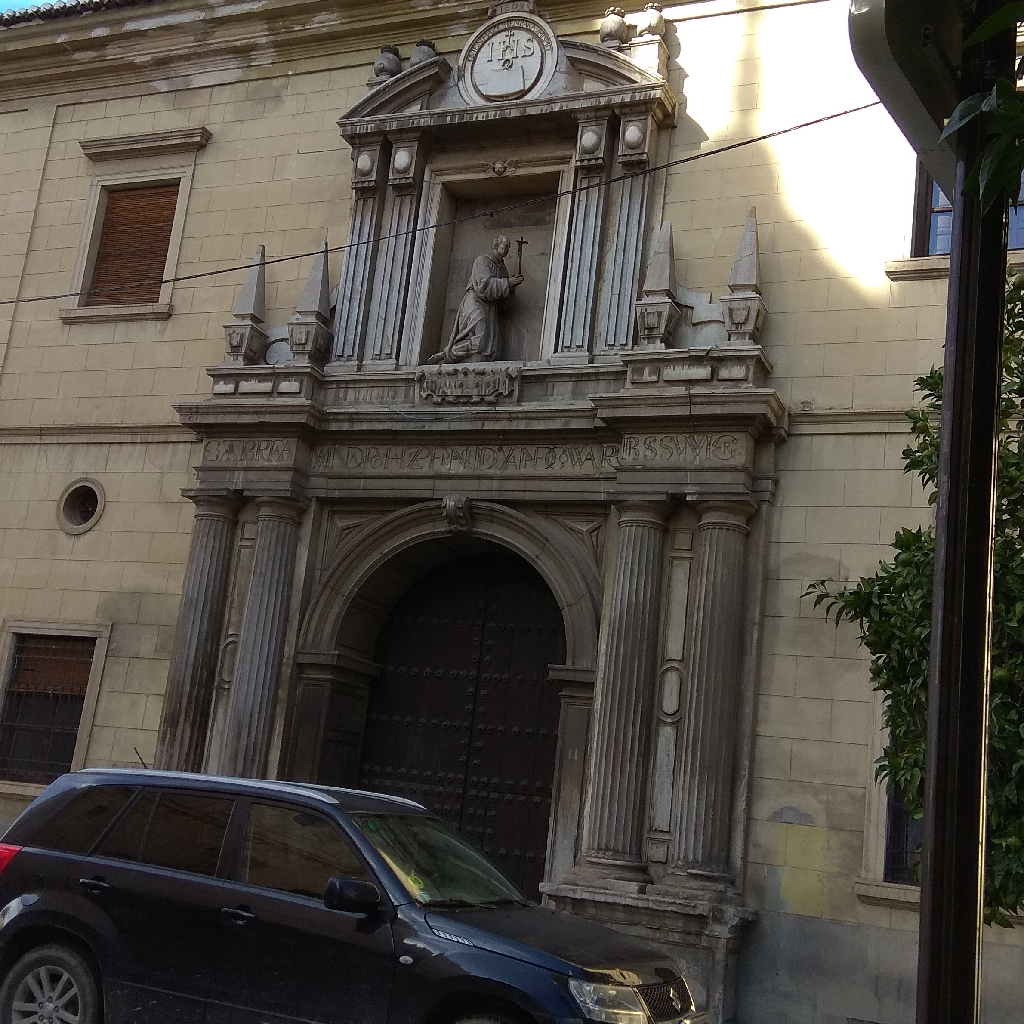arco-medio-punto: (315, 515, 573, 703)
fronton-partido: (340, 42, 667, 131)
ojo-de-buey: (57, 479, 104, 535)
vano-adintelado: (404, 151, 577, 370), (71, 141, 202, 308), (1, 618, 116, 794)
